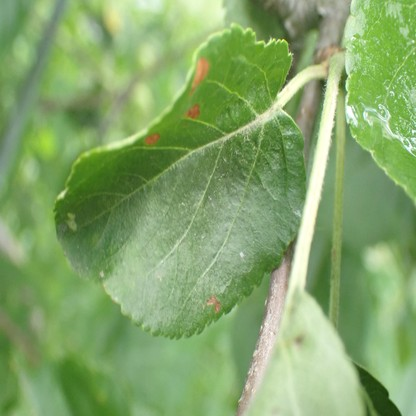frogeye_leaf_spot: (189, 57, 207, 94), (205, 294, 221, 313), (185, 104, 201, 119), (145, 133, 161, 144)
scab: (66, 211, 77, 233)
